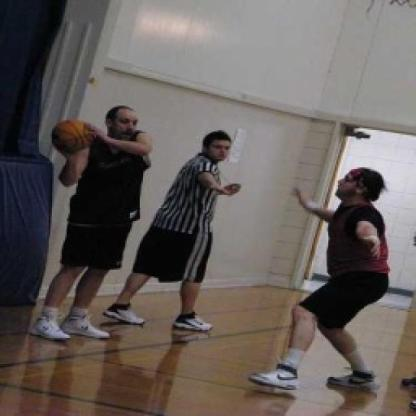basketball: (51, 116, 92, 153)
